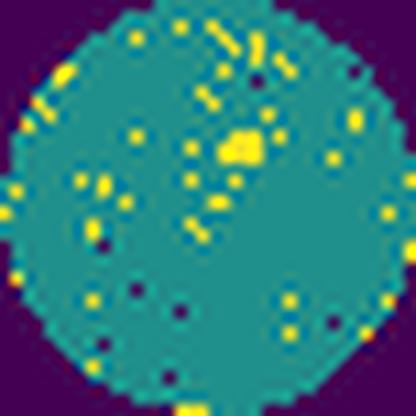Loc: (217, 130, 266, 168)
